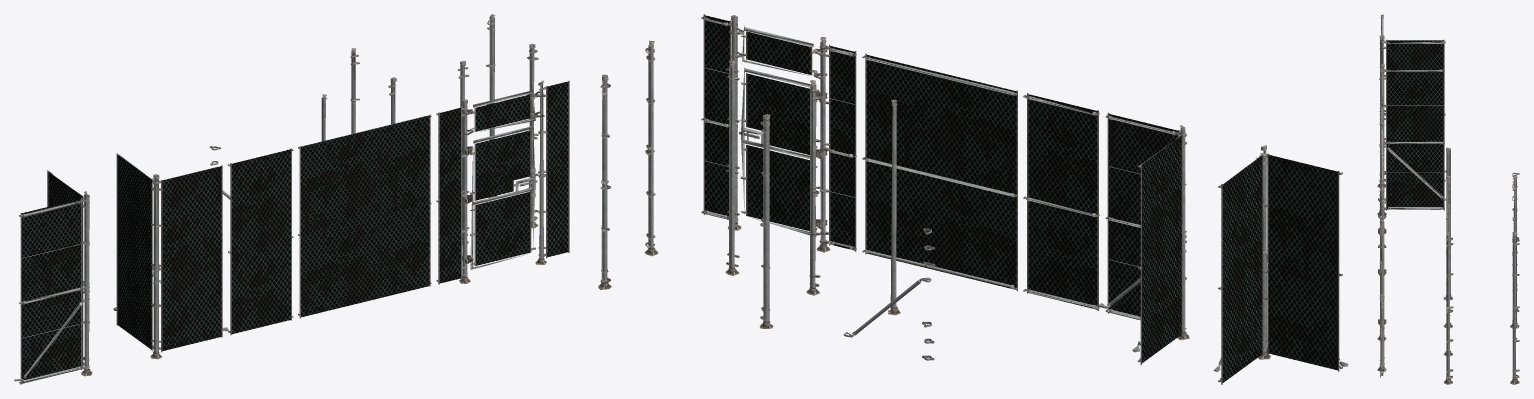
File: fence.glb
3 views of the same model, side by side, from view 1: azimuth 30°, elevation 25°; view 2: azimuth 150°, elevation 25°; view 3: azimuth 270°, elevation 25° (orthographic). The views are drawn at different scales.
Parts seen in each view (by area): view 1: modular_chainlink_fence_double, modular_chainlink_fence_corner_outer, modular_chainlink_fence_corner_inner, modular_chainlink_fence_door_frame, modular_chainlink_fence, modular_chainlink_fence_door_gate, modular_chainlink_fence_start_01_corner_01, modular_chainlink_fence_start_01_corner_02; view 2: modular_chainlink_fence_double, modular_chainlink_fence_corner_inner, modular_chainlink_fence_corner_outer, modular_chainlink_fence_door_frame, modular_chainlink_fence, modular_chainlink_fence_door_gate, modular_chainlink_fence_end_02, modular_chainlink_post_middle, modular_chainlink_fence_end_01, modular_chainlink_fence_start_01_corner_02, modular_chainlink_fence_start_01_corner_01, modular_chainlink_fence_post; view 3: modular_chainlink_fence_corner_outer, modular_chainlink_fence_corner_inner, modular_chainlink_fence_door_frame, modular_chainlink_fence_start_01_corner_02, modular_chainlink_fence_start_01_corner_01, modular_chainlink_fence_post, modular_chainlink_fence_end_02, modular_chainlink_fence_end_01, modular_chainlink_fence_double.
Part boxes in pixels (x1=…): modular_chainlink_fence_double: x1=298, y1=114, x2=431, y2=318; modular_chainlink_fence_corner_outer: x1=113, y1=153, x2=228, y2=359; modular_chainlink_fence_corner_inner: x1=14, y1=170, x2=92, y2=384; modular_chainlink_fence_door_frame: x1=436, y1=80, x2=569, y2=284; modular_chainlink_fence: x1=228, y1=148, x2=293, y2=335; modular_chainlink_fence_door_gate: x1=470, y1=126, x2=536, y2=269; modular_chainlink_fence_start_01_corner_01: x1=527, y1=43, x2=538, y2=228; modular_chainlink_fence_start_01_corner_02: x1=486, y1=14, x2=497, y2=197; modular_chainlink_fence_double: x1=862, y1=53, x2=1017, y2=291; modular_chainlink_fence_corner_inner: x1=1213, y1=145, x2=1348, y2=384; modular_chainlink_fence_corner_outer: x1=1098, y1=112, x2=1189, y2=364; modular_chainlink_fence_door_frame: x1=701, y1=14, x2=856, y2=252; modular_chainlink_fence: x1=1023, y1=93, x2=1099, y2=310; modular_chainlink_fence_door_gate: x1=740, y1=67, x2=817, y2=236; modular_chainlink_fence_end_02: x1=759, y1=114, x2=773, y2=328; modular_chainlink_post_middle: x1=725, y1=60, x2=739, y2=275; modular_chainlink_fence_end_01: x1=806, y1=80, x2=820, y2=295; modular_chainlink_fence_start_01_corner_02: x1=598, y1=74, x2=611, y2=289; modular_chainlink_fence_start_01_corner_01: x1=644, y1=40, x2=658, y2=256; modular_chainlink_fence_post: x1=888, y1=99, x2=900, y2=315; modular_chainlink_fence_corner_outer: x1=1377, y1=63, x2=1446, y2=215; modular_chainlink_fence_corner_inner: x1=1377, y1=14, x2=1446, y2=187; modular_chainlink_fence_door_frame: x1=1377, y1=182, x2=1386, y2=377; modular_chainlink_fence_start_01_corner_02: x1=1510, y1=231, x2=1519, y2=384; modular_chainlink_fence_start_01_corner_01: x1=1443, y1=231, x2=1453, y2=384; modular_chainlink_fence_post: x1=1443, y1=147, x2=1453, y2=300; modular_chainlink_fence_end_02: x1=1510, y1=175, x2=1519, y2=328; modular_chainlink_fence_end_01: x1=1443, y1=175, x2=1452, y2=328; modular_chainlink_fence_double: x1=1380, y1=126, x2=1383, y2=182.
Bounding box in the file's own units: 7.08 × 2.18 × 1.87.
2 materials, 2 textured.
